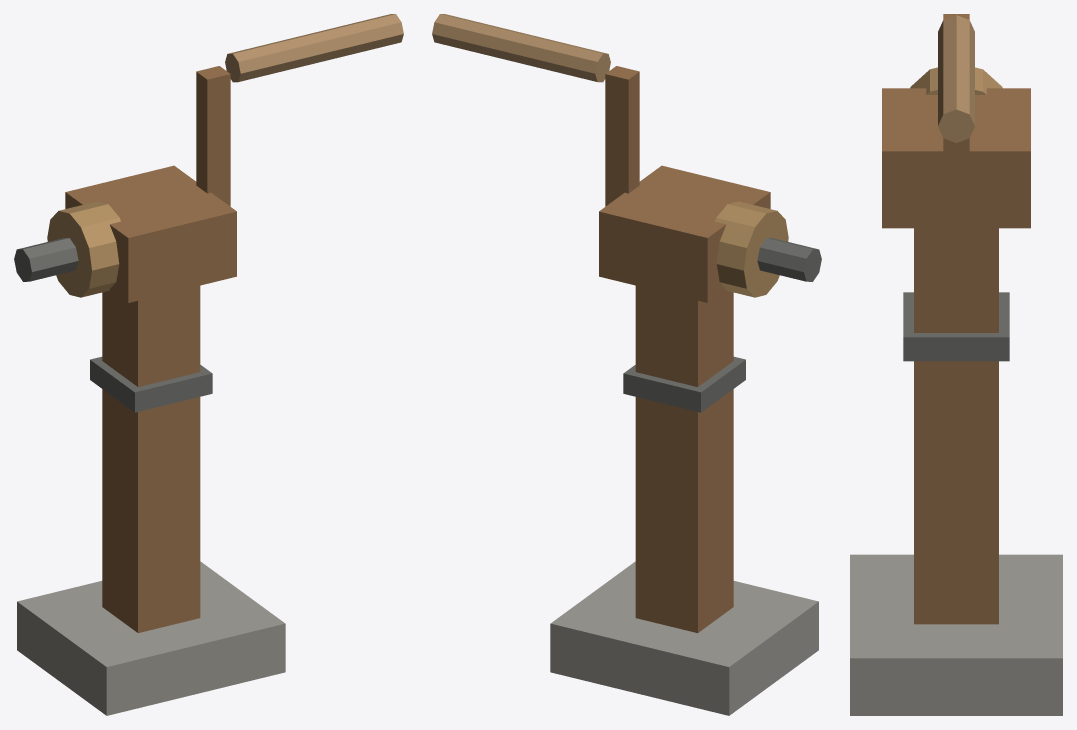
Rendered from vf_hand_crank.glb.
3 views of the same model, side by side, from view 1: azimuth 30°, elevation 25°; view 2: azimuth 150°, elevation 25°; view 3: azimuth 270°, elevation 25° (orthographic). The views are drawn at different scales.
Parts seen in each view (by area): view 1: Static_Oak, Static_Stone, Crank_OakLight, Static_Bronze, Crank_Oak, Static_Iron, Crank_Iron; view 2: Static_Oak, Static_Stone, Crank_OakLight, Static_Bronze, Crank_Oak, Static_Iron, Crank_Iron; view 3: Static_Oak, Static_Stone, Crank_OakLight, Static_Iron, Crank_Oak, Static_Bronze.
Boxes of the visible parts, x1,y1,x2,y2 form: Static_Oak: [65, 165, 236, 633]; Static_Stone: [17, 561, 285, 715]; Crank_OakLight: [225, 14, 403, 82]; Static_Bronze: [47, 201, 120, 297]; Crank_Oak: [196, 66, 230, 206]; Static_Iron: [90, 356, 212, 412]; Crank_Iron: [14, 238, 78, 281]; Static_Oak: [599, 165, 770, 633]; Static_Stone: [550, 561, 818, 715]; Crank_OakLight: [432, 14, 610, 82]; Static_Bronze: [715, 201, 788, 297]; Crank_Oak: [605, 66, 639, 206]; Static_Iron: [623, 356, 745, 412]; Crank_Iron: [757, 238, 821, 281]; Static_Oak: [882, 88, 1030, 624]; Static_Stone: [850, 554, 1062, 715]; Crank_OakLight: [938, 15, 974, 142]; Static_Iron: [903, 292, 1009, 361]; Crank_Oak: [943, 14, 969, 200]; Static_Bronze: [910, 67, 1002, 94].
Size of the model in its own units: 0.96 by 1.44 by 0.4.
